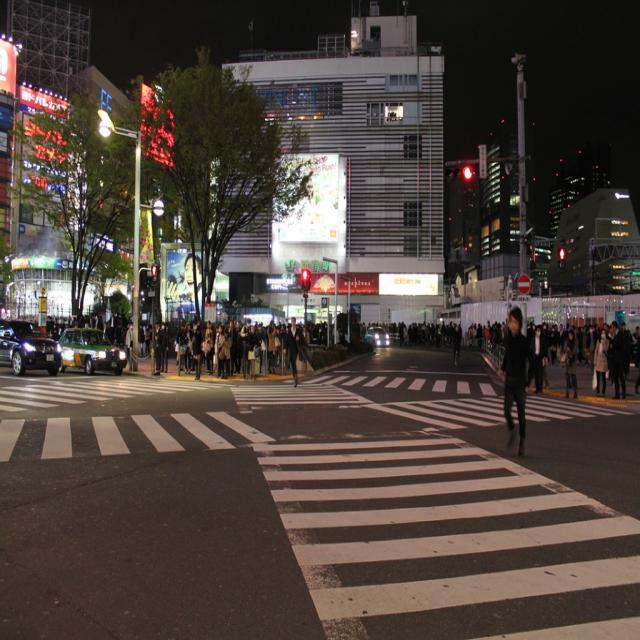traffic light: (301, 269, 314, 290)
